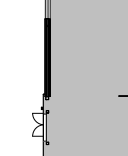double door: (31, 112, 44, 138)
